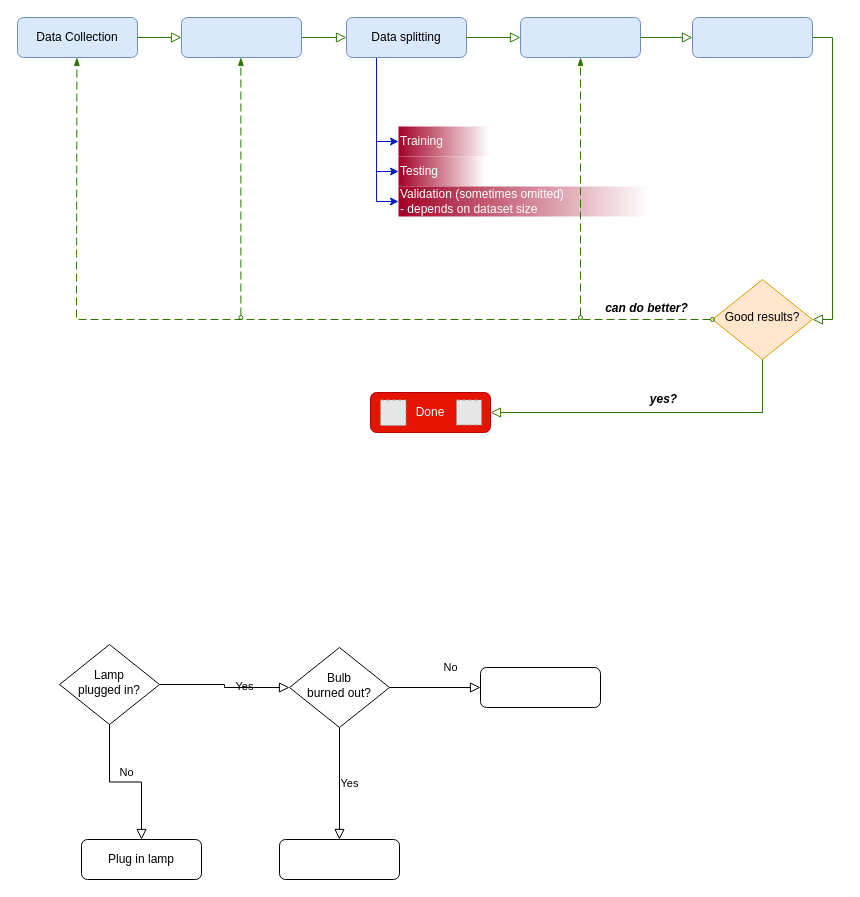
This 860x897 diagram has some shape labels left out. Grey dashed boxes stand in for pictures. Each missing label, with the centre of its shape:
"Data preprocessing" goes at (x=241, y=37).
"Model definition and training" goes at (x=580, y=37).
"Repair Lamp" goes at (x=540, y=687).
"Replace Bulb" goes at (x=339, y=859).
"Testing and evaluation" goes at (x=752, y=37).
